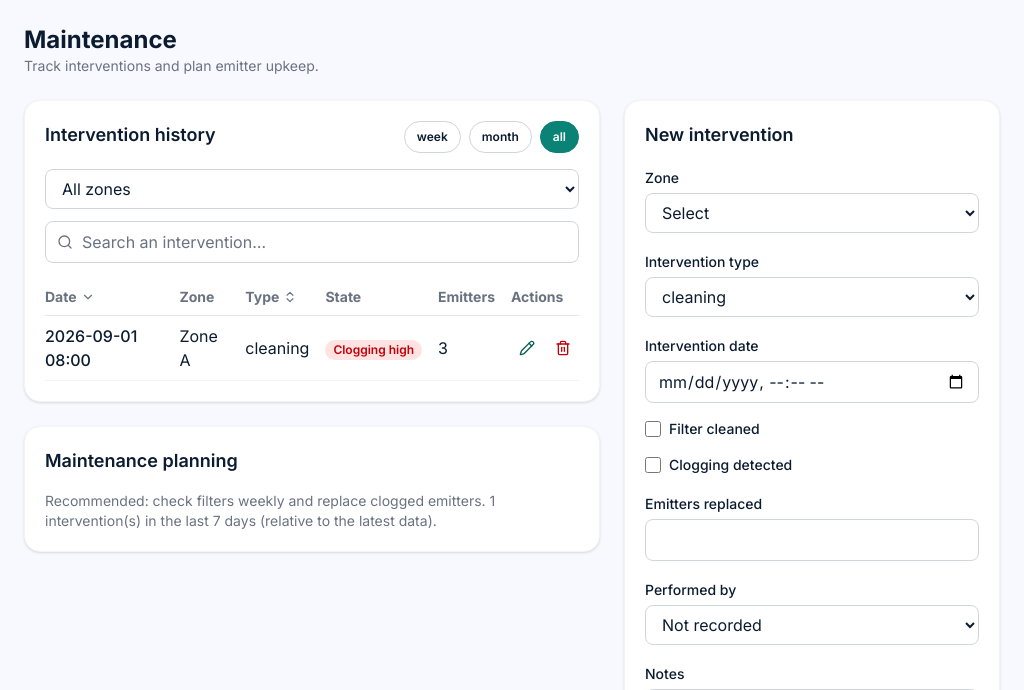
Scenario: DripView › deletes an intervention after confirmation
This screenshot has width=1024, height=690.
Expected: the text "Clogging high" is shown, [325,340,422,360]
Click the button named "Delete".
click(563, 348)  # box [547,332,579,364]
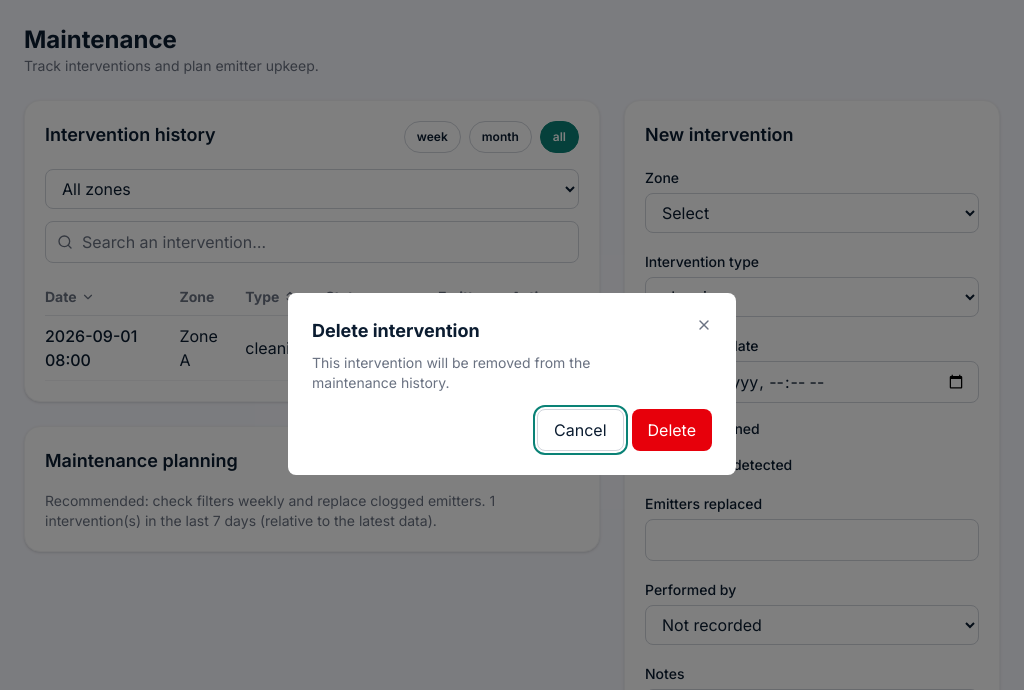
Now the dialog shows "This intervention will be removed from the maintenance history.", box [312,354,590,391]
Click the button "Delete".
click(672, 430)  # box [632,409,712,451]
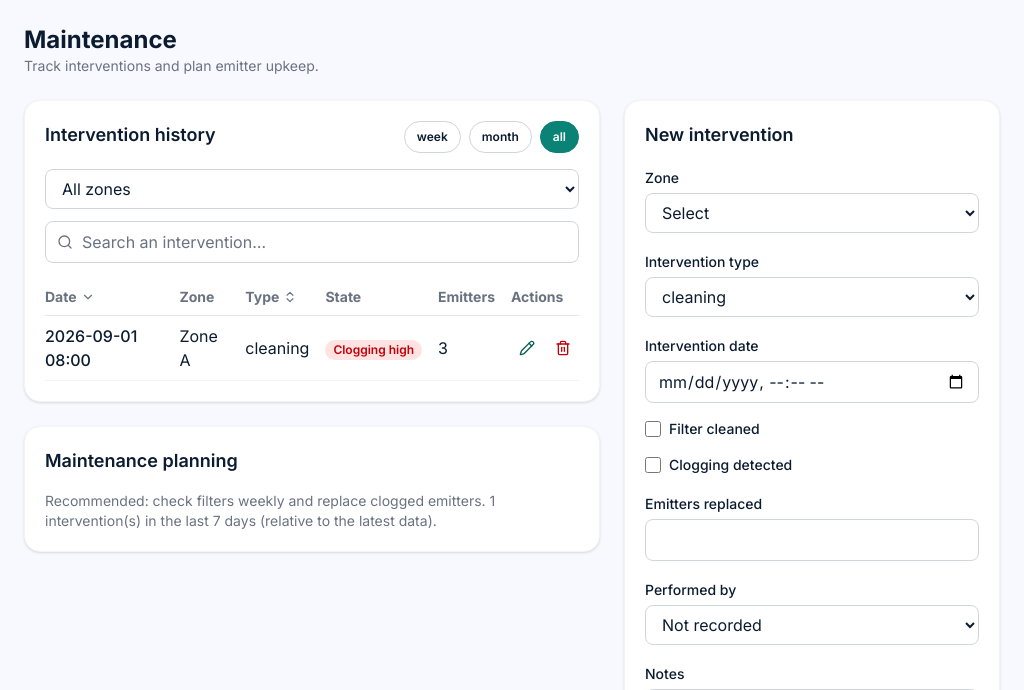
Now the dialog is gone
